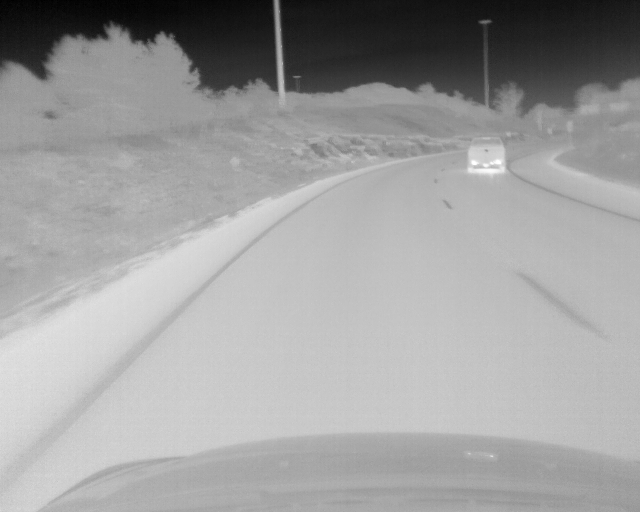car: (467, 136, 507, 171)
